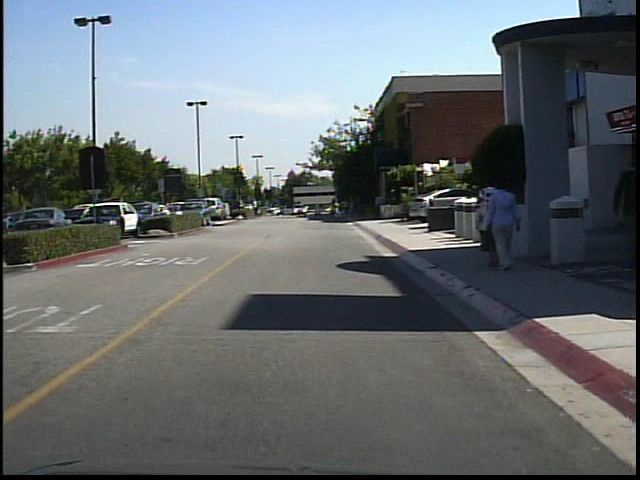person: (606, 145, 637, 270), (485, 175, 520, 272), (474, 175, 497, 273), (332, 197, 345, 222), (252, 194, 263, 219)
